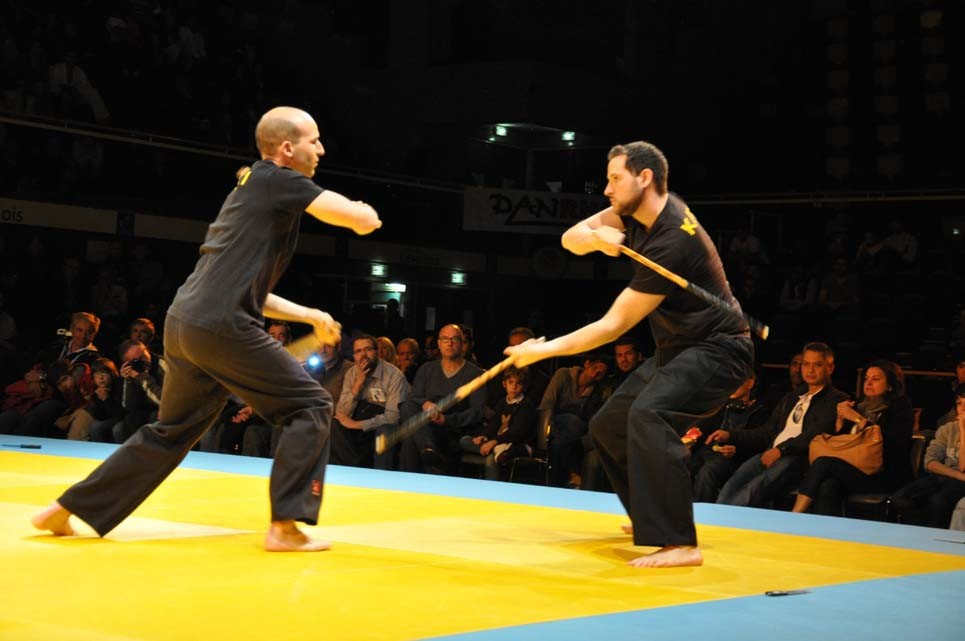baston_e: (383, 335, 540, 454), (622, 241, 763, 338)
baston_v: (756, 318, 773, 343), (370, 435, 389, 457), (539, 331, 550, 345)
